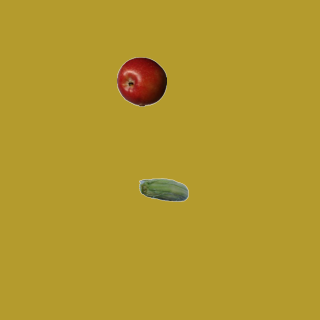Apple Braeburn: (116, 56, 166, 106)
Corn Husk: (138, 166, 188, 216)
